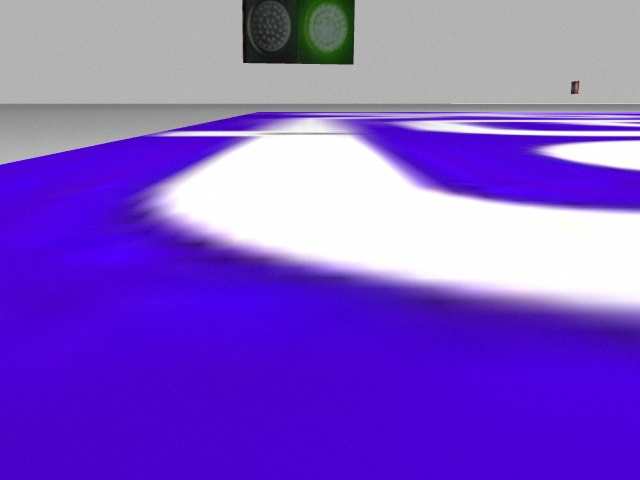green: (300, 1, 355, 66)
